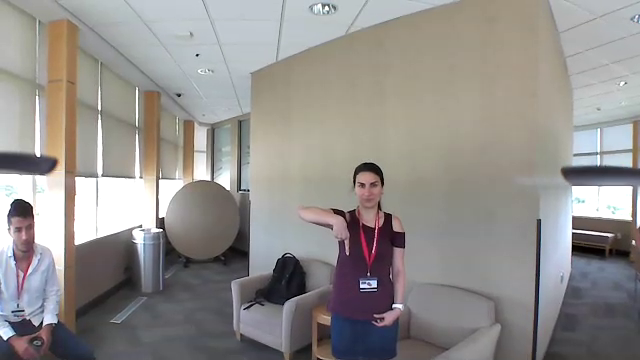down: (328, 211, 356, 265)
